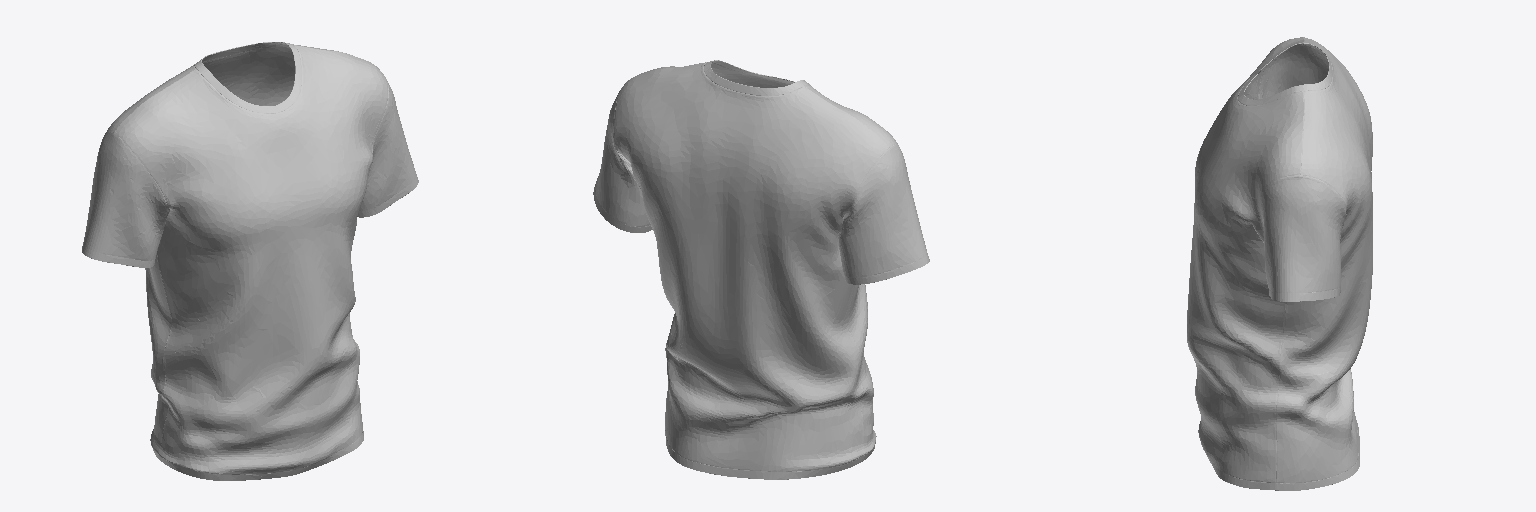
Rendered from tshirt.obj.
The picture shows the model from 3 angles: view 1: azimuth 30°, elevation 25°; view 2: azimuth 150°, elevation 25°; view 3: azimuth 270°, elevation 25°; orthographic projection.
Parts seen in each view (by area): view 1: obj1; view 2: obj1; view 3: obj1.
Boxes of the visible parts, x1,y1,x2,y2 form: obj1: [82, 42, 418, 480]; obj1: [593, 60, 929, 479]; obj1: [1187, 37, 1372, 490].
Size of the model in its own units: 0.5502 by 0.613 by 0.2689.